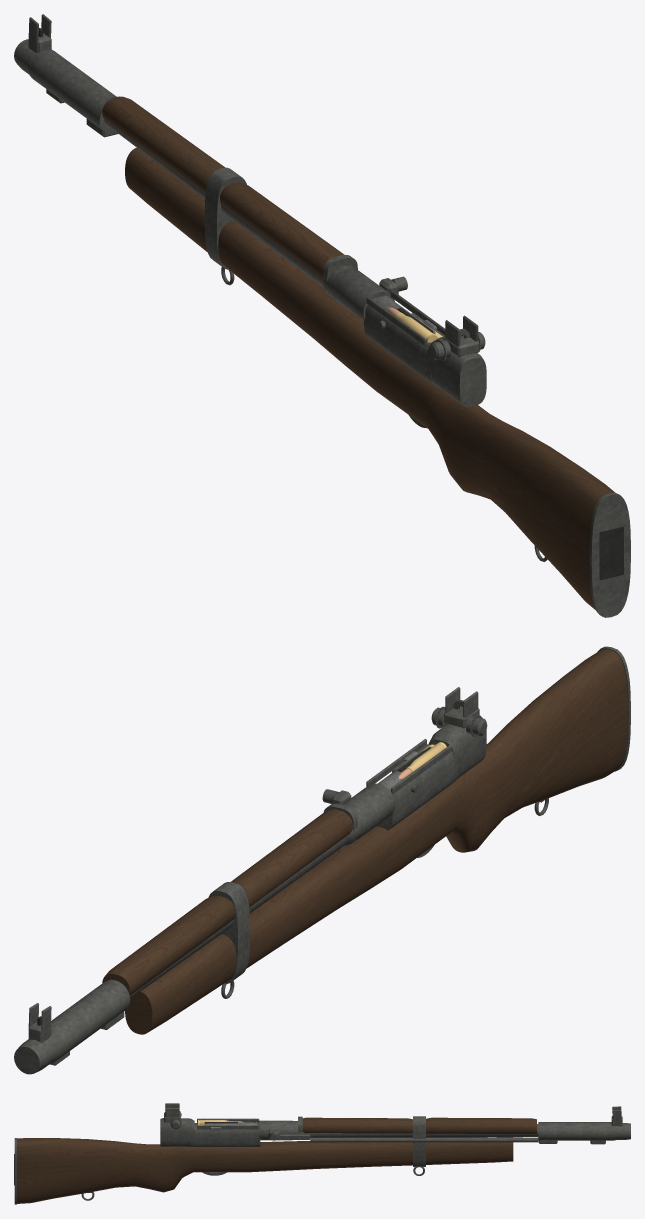
The model's file is m1garand.glb.
3 renders of one model, top to bottom at view 1: azimuth 30°, elevation 25°; view 2: azimuth 150°, elevation 25°; view 3: azimuth 270°, elevation 25°, orthographic. The views are drawn at different scales.
Parts seen in each view (by area): view 1: FP_body, TP_body, WD_body; view 2: FP_body, TP_body; view 3: FP_body, TP_body, FP_oprod, FP_bolt.
Boxes of the visible parts, <box> form: FP_body: <box>14,14,630,617</box>; TP_body: <box>16,41,630,617</box>; WD_body: <box>100,119,630,616</box>; FP_body: <box>14,646,630,1074</box>; TP_body: <box>14,647,629,1074</box>; FP_body: <box>14,1103,630,1204</box>; TP_body: <box>14,1118,630,1203</box>; FP_oprod: <box>268,1129,538,1142</box>; FP_bolt: <box>204,1121,257,1130</box>.
Bounding box in the file's own units: 0.071 × 0.194 × 1.11.
6 materials, 4 textured.
